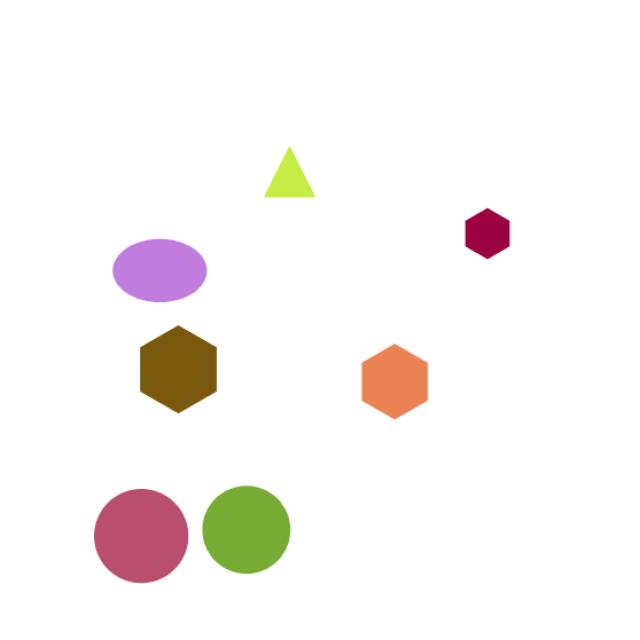Circle: (90, 472, 200, 591), (200, 472, 302, 587)
Hexagon: (125, 315, 226, 439), (347, 331, 444, 429), (439, 183, 533, 268)
Oval: (103, 219, 212, 311)
Triangle: (260, 130, 318, 215)
